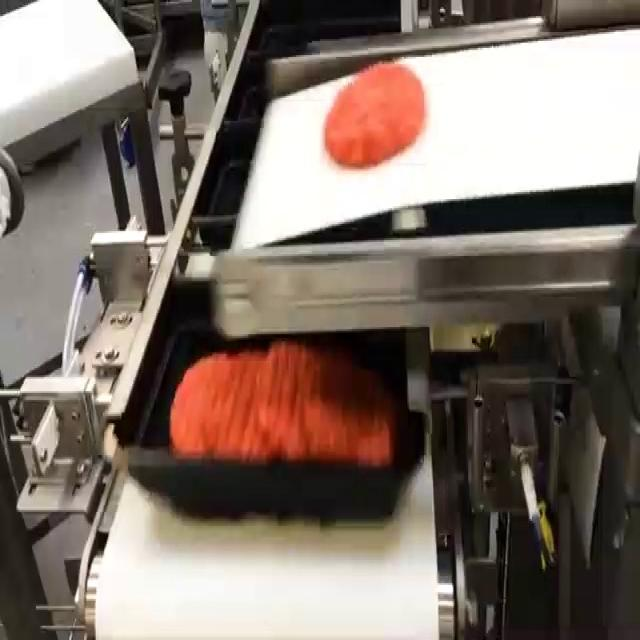4-hamburguer: (170, 341, 396, 464)
hamburguer: (324, 62, 425, 165)
